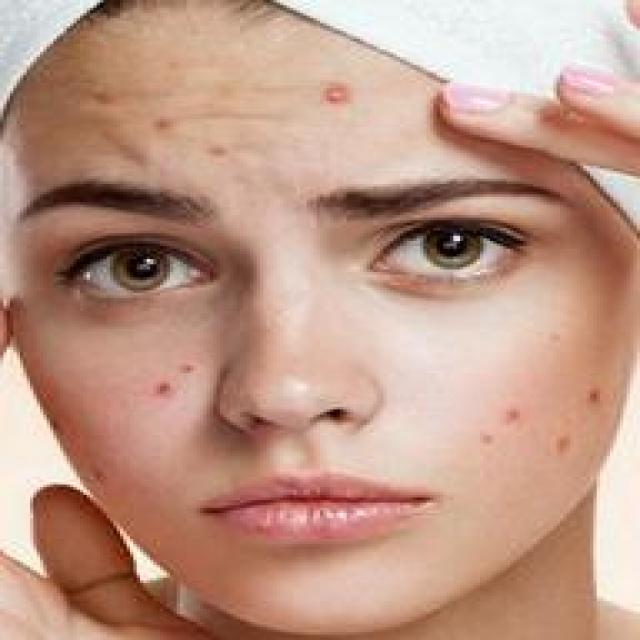blackheads: (323, 83, 350, 106), (557, 435, 573, 459), (154, 112, 174, 130), (157, 378, 170, 399), (176, 360, 196, 373), (213, 143, 230, 158), (587, 386, 600, 402), (506, 409, 516, 420)
